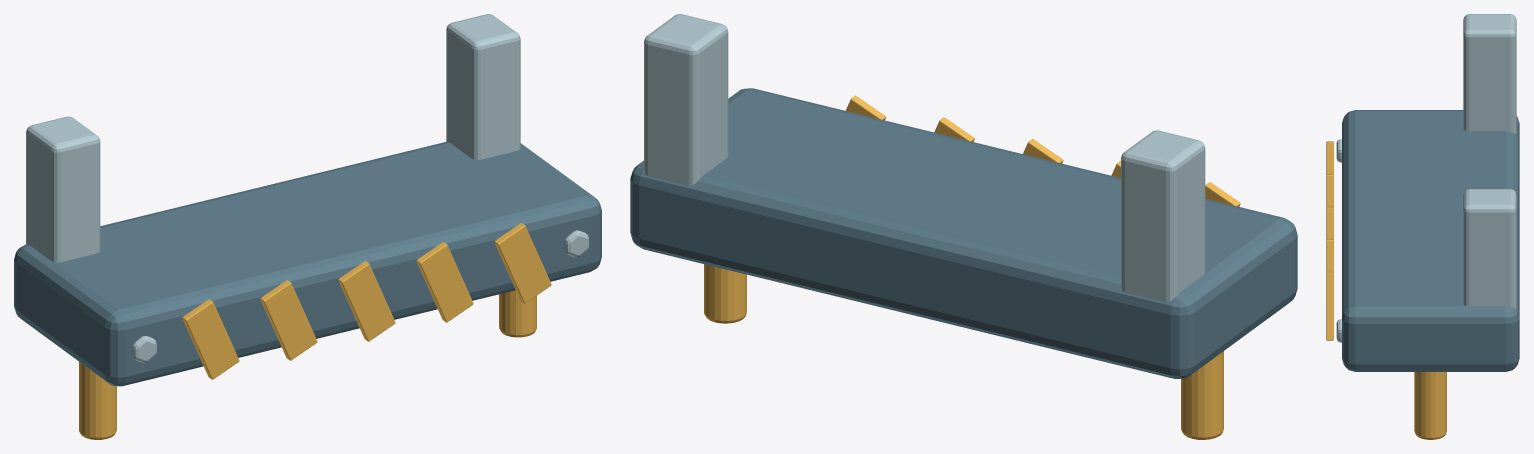
Rendered from SM_SpikeRail.fbx.
3 views of the same model, side by side, from view 1: azimuth 30°, elevation 25°; view 2: azimuth 150°, elevation 25°; view 3: azimuth 270°, elevation 25° (orthographic). The views are drawn at different scales.
Visible parts, largest first — view 1: SM_SpikeRail; view 2: SM_SpikeRail; view 3: SM_SpikeRail.
Part boxes in pixels (x1,y1,x2,y2): SM_SpikeRail: [14, 14, 601, 439]; SM_SpikeRail: [630, 14, 1297, 439]; SM_SpikeRail: [1326, 14, 1519, 439].
Bounding box in the file's own units: 165 × 65.25 × 88.5.
